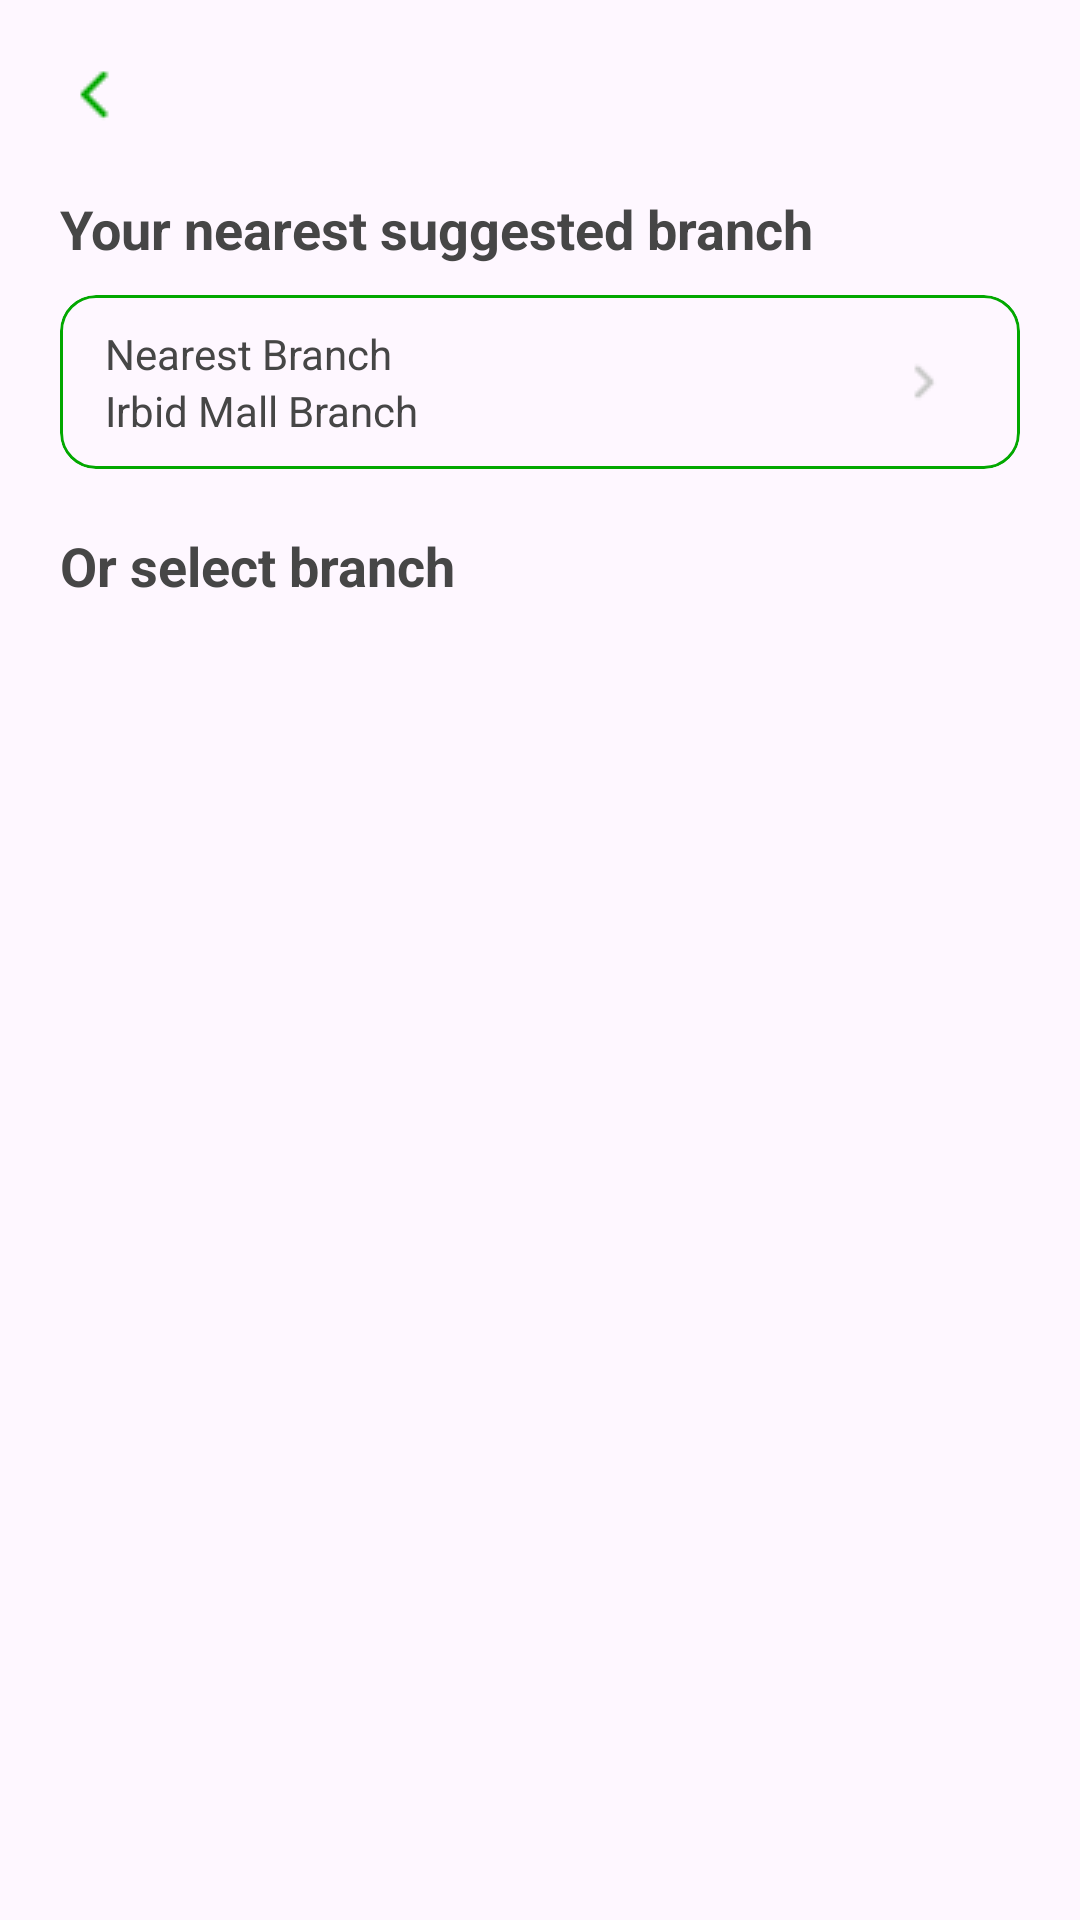

Icon bounding boxes for this 1080px x 1920px phone screenshot, format {"x1": x1, "y1": y1, "x2": x2, "y2": y2}:
arrow: {"x1": 915, "y1": 366, "x2": 933, "y2": 397}
back: {"x1": 80, "y1": 71, "x2": 109, "y2": 118}
